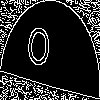O: (25, 24, 52, 78)
